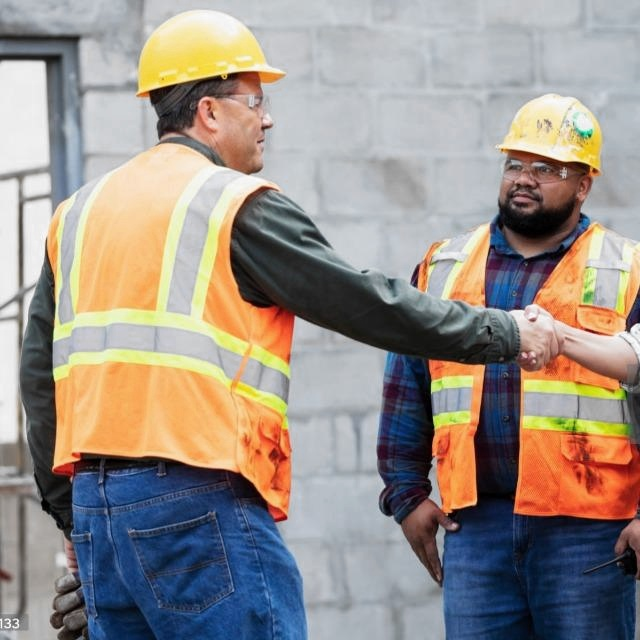Con_Casco: (138, 7, 286, 176), (491, 91, 605, 235)
Con_Chaleco: (46, 151, 297, 496), (405, 224, 640, 524)
